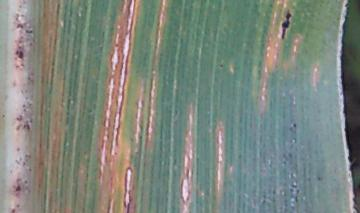tarspot: (282, 8, 291, 40), (218, 62, 226, 68), (293, 122, 298, 130)
